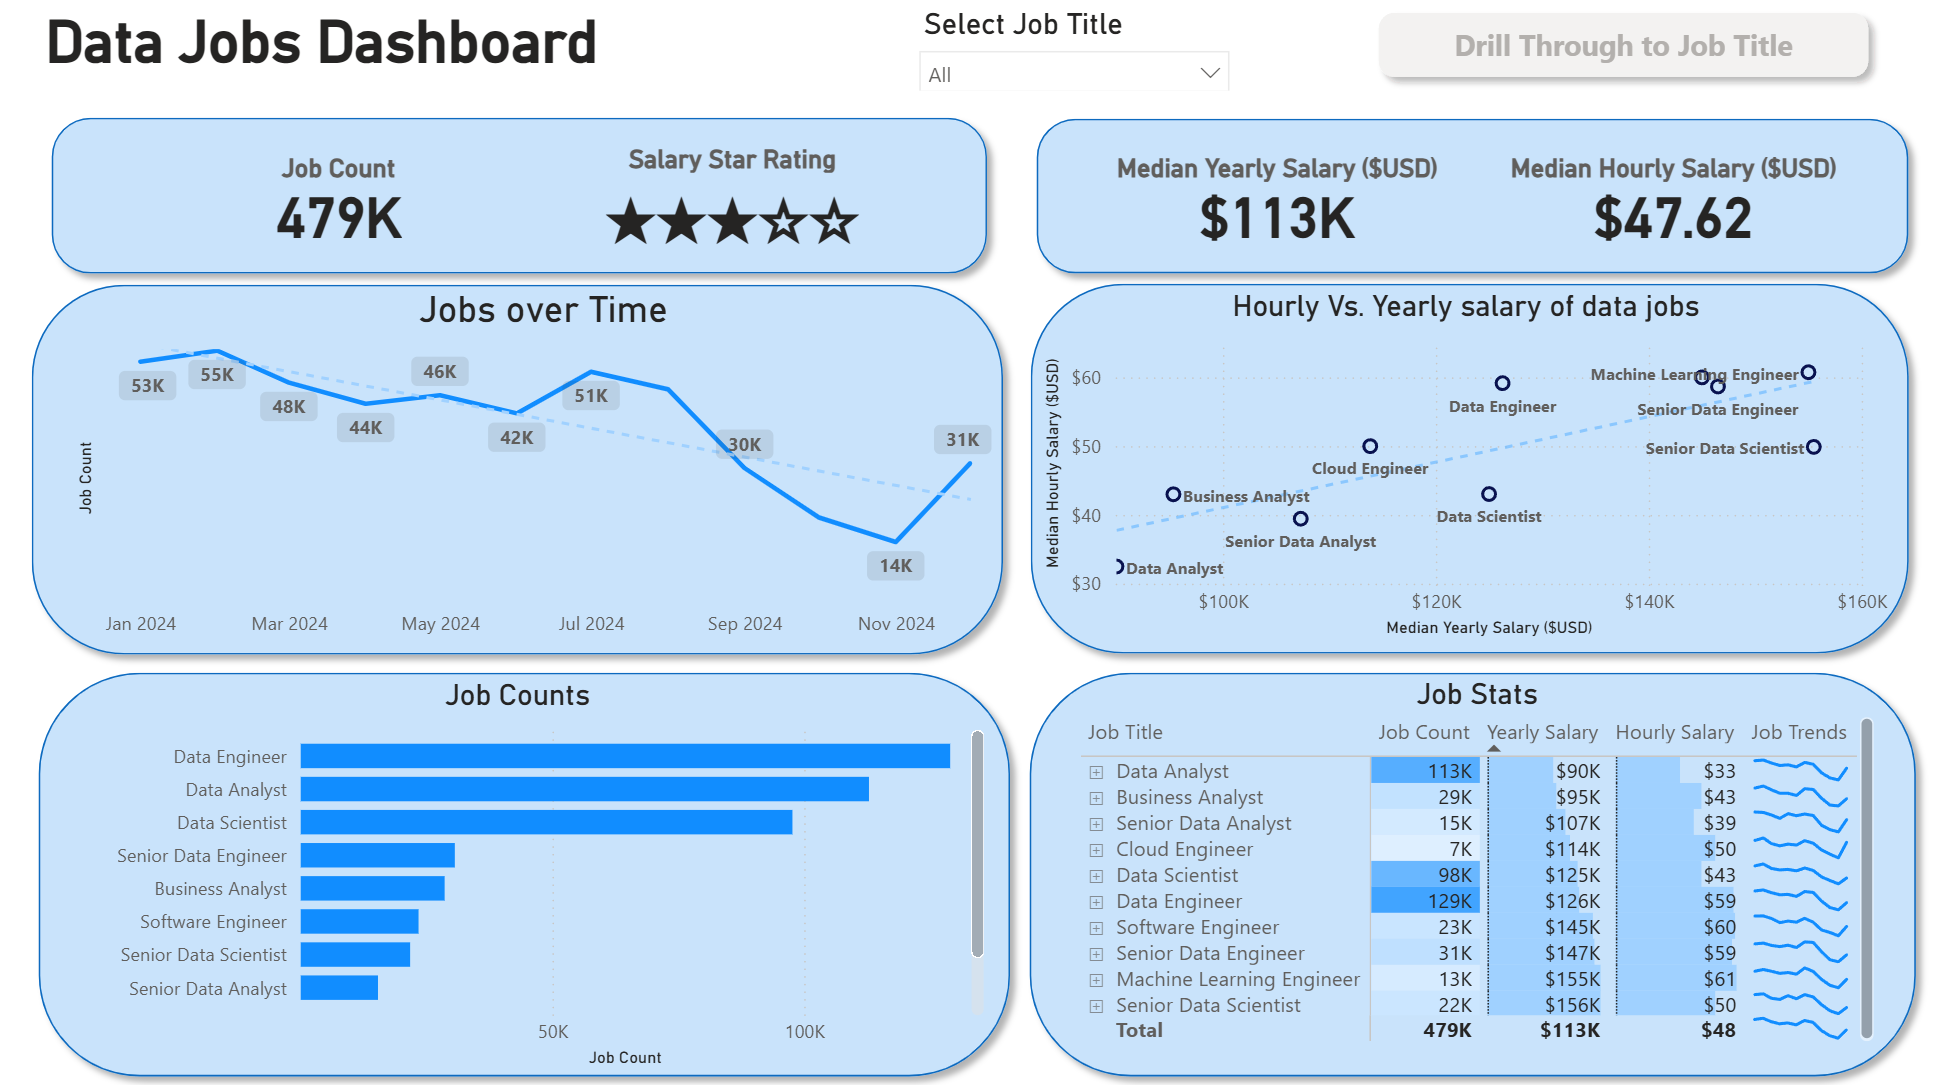

The page's visual inventory and layout, read from the dashboard file:
{"tool":"powerbi","page":{"name":"Data Jobs Dashboard","canvas":[1280,720],"ordinal":0},"visuals":[{"type":"shape","box":[27.1,74.3,630,120],"z":0},{"type":"textbox","box":[27.1,5.7,565.7,68.6],"z":1000},{"type":"shape","box":[671.7,75,588.3,119.2],"z":2000},{"type":"slicer","fields":{"Values":["job_postings_flat.job_title_short"]},"box":[593.3,5.8,223.3,60],"z":3000},{"type":"shape","box":[13.6,183.6,653.6,260],"z":4000},{"type":"cardVisual","fields":{"Data":["CountNonNull(job_postings_flat.job_title_short)"]},"box":[62.1,74.3,323.6,125.7],"z":5000},{"type":"shape","box":[18.6,437.9,653.6,282.1],"z":6000},{"type":"cardVisual","fields":{"Data":["job_postings_flat.Salary Star Rating"]},"box":[323.6,74.3,316.4,125.7],"z":7000},{"type":"shape","box":[667.5,183.3,592.5,260],"z":8000},{"type":"cardVisual","fields":{"Data":["Median(job_postings_flat.salary_year_avg)"]},"box":[680.7,74.3,314.3,125.7],"z":9000},{"type":"shape","box":[667.1,437.9,597.9,282.1],"z":10000},{"type":"cardVisual","fields":{"Data":["Median(job_postings_flat.salary_hour_avg)"]},"box":[934.3,74.3,325.7,125.7],"z":11000},{"type":"lineChart","title":"Jobs over Time","fields":{"Y":["CountNonNull(job_postings_flat.job_title_short)"],"Category":["job_postings_flat.job_posted_date.Variation.Date Hierarchy.Year","job_postings_flat.job_posted_date.Variation.Date Hierarchy.Quarter","job_postings_flat.job_posted_date.Variation.Date Hierarchy.Month","job_postings_flat.job_posted_date.Variation.Date Hierarchy.Day"]},"box":[47.5,195,620,237.5],"z":12000},{"type":"barChart","title":"Job Counts","fields":{"Y":["CountNonNull(job_postings_flat.job_title_short)"],"Category":["job_postings_flat.job_title_short"]},"box":[30.7,449.3,620,259.3],"z":13000},{"type":"scatterChart","title":"Hourly Vs. Yearly salary of data jobs","fields":{"X":["Median(job_postings_flat.salary_year_avg)"],"Y":["Median(job_postings_flat.salary_hour_avg)"],"Series":["job_postings_flat.job_title_short"]},"box":[680.8,195,561.7,232.5],"z":14000},{"type":"pivotTable","title":"Job Stats","fields":{"Values":["CountNonNull(job_postings_flat.job_title_short)","Median(job_postings_flat.salary_year_avg)","Median(job_postings_flat.salary_hour_avg)","SparklineData(CountNonNull(job_postings_flat.job_title_short)_[job_postings_flat.job_posted_date.Variation.Date Hierarch"],"Rows":["job_postings_flat.job_title_short","job_postings_flat.job_posted_date.Variation.Date Hierarchy.Quarter"]},"box":[704.2,449.2,529.2,244.2],"z":15000},{"type":"actionButton","title":"Drill through","box":[895,5.8,338.3,60],"z":16000}]}

Visuals, with their boxes in screenshot pixels (x1, y1, x2, y2), scaled from the page's 1280x720 canvas onto the 1948x1085 screenshot:
shape: <bbox>41, 112, 1000, 293</bbox>
textbox: <bbox>41, 9, 902, 112</bbox>
shape: <bbox>1022, 113, 1918, 293</bbox>
slicer - job_postings_flat.job_title_short: <bbox>903, 9, 1243, 99</bbox>
shape: <bbox>21, 277, 1015, 668</bbox>
cardVisual - CountNonNull(job_postings_flat.job_title_short): <bbox>95, 112, 587, 301</bbox>
shape: <bbox>28, 660, 1023, 1084</bbox>
cardVisual - job_postings_flat.Salary Star Rating: <bbox>492, 112, 974, 301</bbox>
shape: <bbox>1016, 276, 1918, 668</bbox>
cardVisual - Median(job_postings_flat.salary_year_avg): <bbox>1036, 112, 1514, 301</bbox>
shape: <bbox>1015, 660, 1925, 1084</bbox>
cardVisual - Median(job_postings_flat.salary_hour_avg): <bbox>1422, 112, 1918, 301</bbox>
"Jobs over Time" lineChart: <bbox>72, 294, 1016, 652</bbox>
"Job Counts" barChart: <bbox>47, 677, 990, 1068</bbox>
"Hourly Vs. Yearly salary of data jobs" scatterChart: <bbox>1036, 294, 1891, 644</bbox>
"Job Stats" pivotTable: <bbox>1072, 677, 1877, 1045</bbox>
"Drill through" actionButton: <bbox>1362, 9, 1877, 99</bbox>
